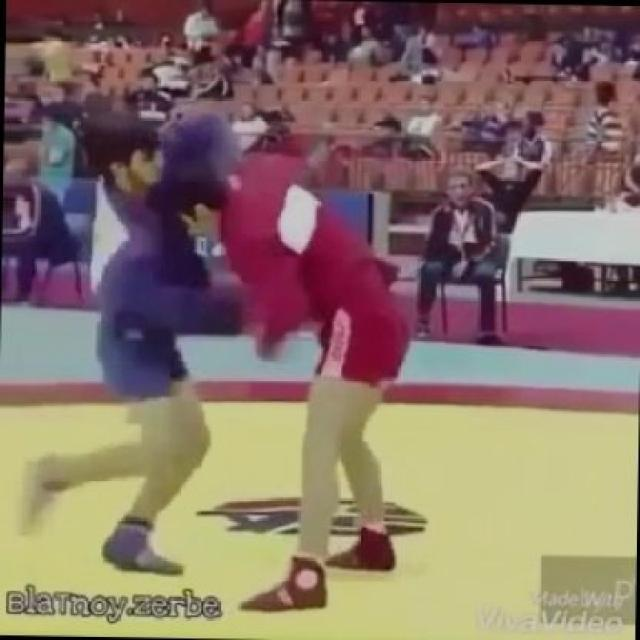fight: (11, 98, 431, 635)
non-fight: (413, 174, 514, 351), (0, 170, 88, 303)
